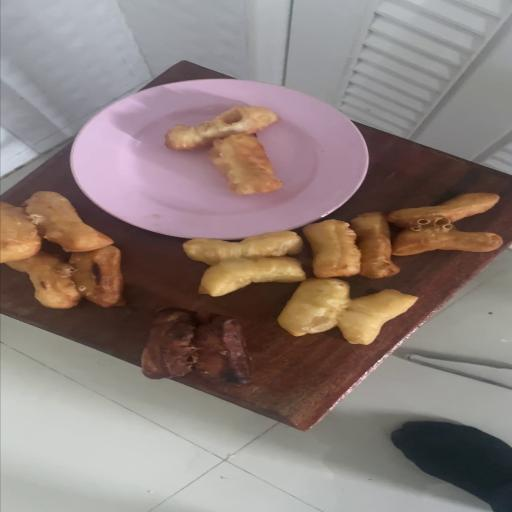street_burnt_defect: (140, 308, 252, 384), (0, 247, 123, 308)
street_golden_good: (277, 277, 416, 343), (182, 230, 303, 296)
